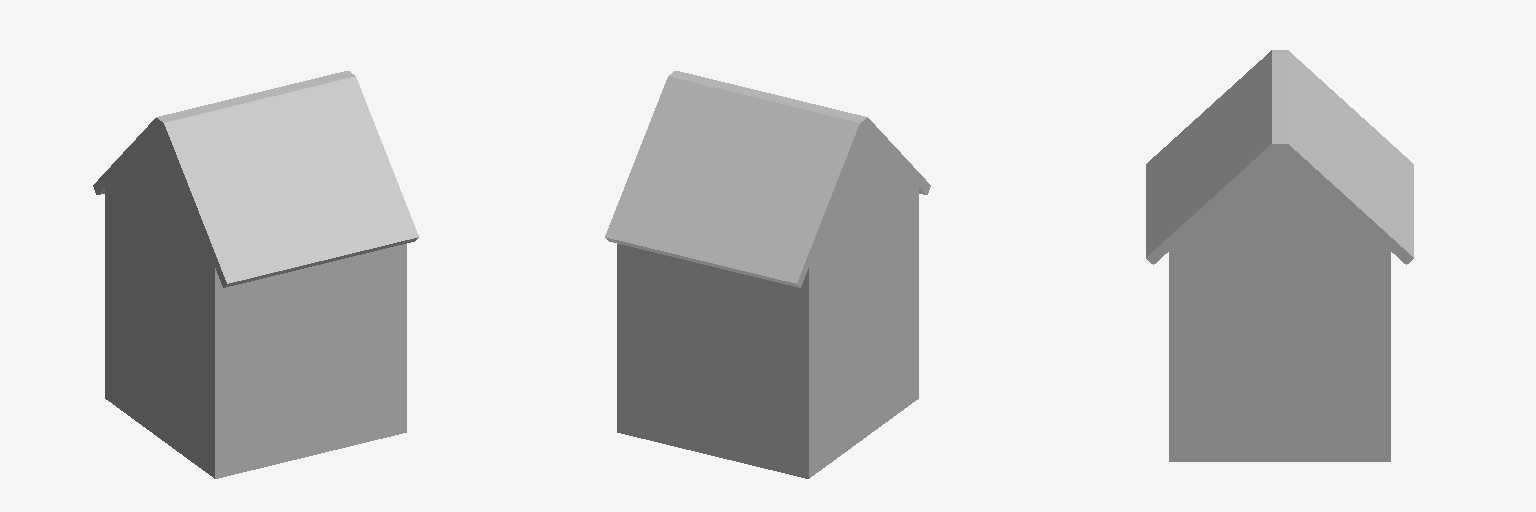
The model's file is house.obj.
3 renders of one model, left to right at view 1: azimuth 30°, elevation 25°; view 2: azimuth 150°, elevation 25°; view 3: azimuth 270°, elevation 25°, orthographic.
Parts seen in each view (by area): view 1: Cube; view 2: Cube; view 3: Cube.
Part boxes in pixels (bbox=[...]): Cube: bbox=[93, 71, 418, 478]; Cube: bbox=[605, 71, 930, 478]; Cube: bbox=[1146, 50, 1413, 461].
Size of the model in its own units: 2 by 3.17 by 2.42.